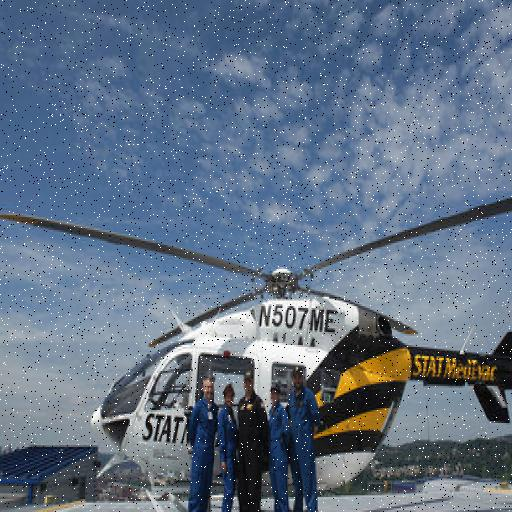helicopter: (76, 142, 512, 487)
